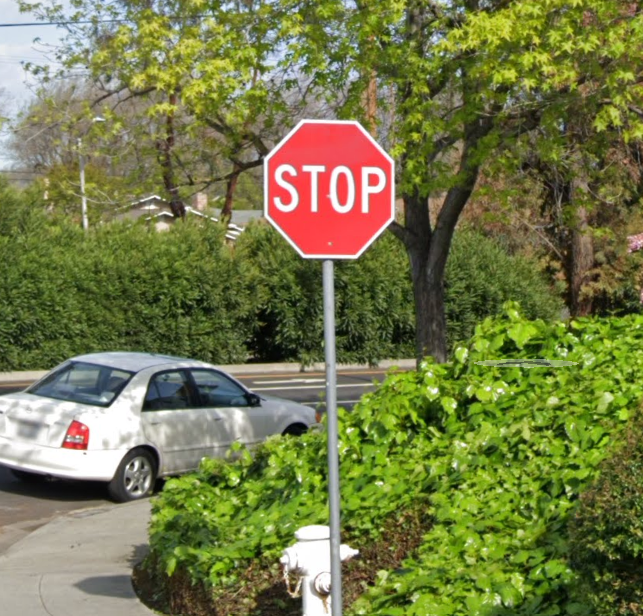stop_sign: (264, 119, 394, 254)
